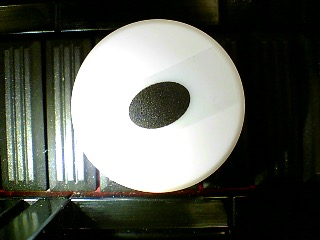BOHOEL: (70, 19, 245, 194)
